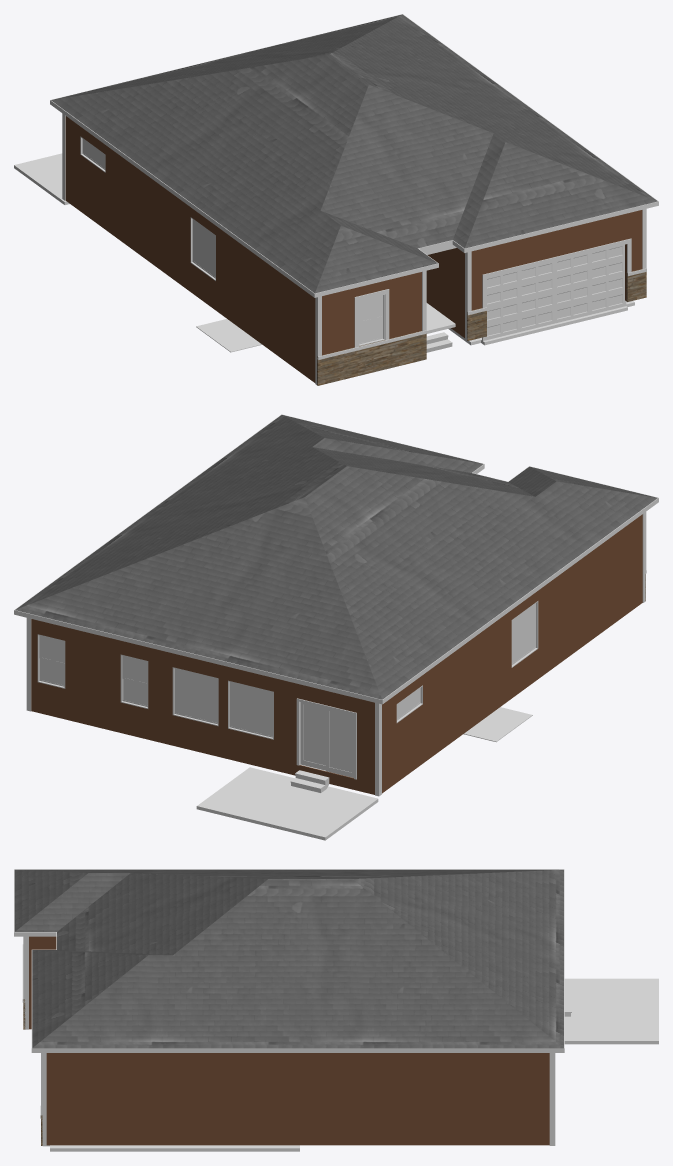
The model's file is 138-1251-dm-traditional.glb.
The picture shows the model from 3 angles, top to bottom: view 1: azimuth 30°, elevation 25°; view 2: azimuth 150°, elevation 25°; view 3: azimuth 270°, elevation 25°; orthographic projection. The views are drawn at different scales.
Visible parts, largest first — view 1: Basic Roof Wood Rafter 4" - Asphalt Shingle - Insulated_015a, Basic Wall BSB Exterior - Stud_3.5" - Sheathing_0.5" - _1f1e, Traditional - BSB Exterior - Overhead Garage Door - Clo_d89d, Basic Wall BSB Exterior - Stud_3.5" - Sheathing_0.5" - _cad2, Basic Wall BSB Exterior - Stud_3.5" - Sheathing_0.5" - _5f50, Fascia Fascia-Flat 1x6 w/12" Soffit Bd [4311871], Basic Wall BSB Exterior - Stone Veneer_2" [4306470], Basic Wall BSB Exterior - Stud_3.5" - Sheathing_0.5" - _0ab7, Trim - Corner Boards Trim - Corner Boards [4311297], Floor BSB Concrete Slab - 4" - Slope Option [4280403], BSB Fixed 5050 FX w/ Sill [4277854], BSB Single Hung 3050 SH w/ Sill [4277264] (+8 smaller); view 2: Basic Roof Wood Rafter 4" - Asphalt Shingle - Insulated_015a, Basic Wall BSB Exterior - Stud_3.5" - Sheathing_0.5" - _7707, Basic Wall BSB Exterior - Stud_3.5" - Sheathing_0.5" - _1f1e, Floor BSB Concrete Slab - 4" - Slope Option [4280403], Fascia Fascia-Flat 1x6 w/12" Soffit Bd [4311871], BSB Exterior - SGD XO - 1-Lite 6068 [4277598], BSB Fixed 5050 FX w/ Sill [4277652], BSB Fixed 5050 FX w/ Sill [4277767], Trim - Corner Boards Trim - Corner Boards [4311297], BSB Single Hung 3050 SH w/ Sill [4277308], BSB Single Hung 3050 SH w/ Sill [4277413], BSB Fixed 5050 FX w/ Sill [4277854] (+2 smaller); view 3: Basic Roof Wood Rafter 4" - Asphalt Shingle - Insulated_015a, Basic Wall BSB Exterior - Stud_3.5" - Sheathing_0.5" - _035e, Basic Wall BSB Exterior - Stud_3.5" - Sheathing_0.5" - _6094, Basic Wall BSB Exterior - Stud_3.5" - Sheathing_0.5" - _0961, Floor BSB Concrete Slab - 4" - Slope Option [4280403], Fascia Fascia-Flat 1x6 w/12" Soffit Bd [4311871], Floor BSB Concrete Slab - 4" - Slope Option [4298227], Trim - Corner Boards Trim - Corner Boards [4311297], Basic Wall BSB Exterior - Stud_3.5" - Sheathing_0.5" - _3f17.
Part boxes in pixels (x1,y1,x2,y2): Basic Roof Wood Rafter 4" - Asphalt Shingle - Insulated_015a: [51, 14, 657, 293]; Basic Wall BSB Exterior - Stud_3.5" - Sheathing_0.5" - _1f1e: [65, 116, 302, 373]; Traditional - BSB Exterior - Overhead Garage Door - Clo_d89d: [482, 244, 626, 340]; Basic Wall BSB Exterior - Stud_3.5" - Sheathing_0.5" - _cad2: [471, 210, 642, 310]; Basic Wall BSB Exterior - Stud_3.5" - Sheathing_0.5" - _5f50: [322, 272, 421, 355]; Fascia Fascia-Flat 1x6 w/12" Soffit Bd [4311871]: [50, 14, 658, 297]; Basic Wall BSB Exterior - Stone Veneer_2" [4306470]: [317, 331, 426, 385]; Basic Wall BSB Exterior - Stud_3.5" - Sheathing_0.5" - _0ab7: [426, 248, 464, 337]; Trim - Corner Boards Trim - Corner Boards [4311297]: [62, 113, 646, 384]; Floor BSB Concrete Slab - 4" - Slope Option [4280403]: [14, 153, 69, 204]; BSB Fixed 5050 FX w/ Sill [4277854]: [190, 217, 215, 280]; BSB Single Hung 3050 SH w/ Sill [4277264]: [359, 294, 384, 346]; Basic Roof Wood Rafter 4" - Asphalt Shingle - Insulated_015a: [15, 415, 657, 699]; Basic Wall BSB Exterior - Stud_3.5" - Sheathing_0.5" - _7707: [31, 619, 374, 794]; Basic Wall BSB Exterior - Stud_3.5" - Sheathing_0.5" - _1f1e: [382, 524, 628, 793]; Floor BSB Concrete Slab - 4" - Slope Option [4280403]: [196, 767, 378, 840]; Fascia Fascia-Flat 1x6 w/12" Soffit Bd [4311871]: [14, 414, 658, 704]; BSB Exterior - SGD XO - 1-Lite 6068 [4277598]: [296, 698, 356, 779]; BSB Fixed 5050 FX w/ Sill [4277652]: [172, 667, 218, 726]; BSB Fixed 5050 FX w/ Sill [4277767]: [228, 680, 273, 739]; Trim - Corner Boards Trim - Corner Boards [4311297]: [26, 512, 646, 796]; BSB Single Hung 3050 SH w/ Sill [4277308]: [120, 654, 148, 708]; BSB Single Hung 3050 SH w/ Sill [4277413]: [37, 634, 65, 688]; BSB Fixed 5050 FX w/ Sill [4277854]: [511, 601, 538, 667]; Basic Roof Wood Rafter 4" - Asphalt Shingle - Insulated_015a: [14, 869, 563, 1048]; Basic Wall BSB Exterior - Stud_3.5" - Sheathing_0.5" - _035e: [301, 1053, 549, 1145]; Basic Wall BSB Exterior - Stud_3.5" - Sheathing_0.5" - _6094: [143, 1053, 302, 1145]; Basic Wall BSB Exterior - Stud_3.5" - Sheathing_0.5" - _0961: [46, 1053, 143, 1145]; Floor BSB Concrete Slab - 4" - Slope Option [4280403]: [564, 978, 658, 1044]; Fascia Fascia-Flat 1x6 w/12" Soffit Bd [4311871]: [14, 869, 564, 1052]; Floor BSB Concrete Slab - 4" - Slope Option [4298227]: [43, 1145, 299, 1151]; Trim - Corner Boards Trim - Corner Boards [4311297]: [23, 936, 555, 1145]; Basic Wall BSB Exterior - Stud_3.5" - Sheathing_0.5" - _3f17: [29, 936, 56, 1029].
Bounding box in the file's own units: 12.23 × 7.12 × 18.61.
Materials: 3 (2 with a texture image).
